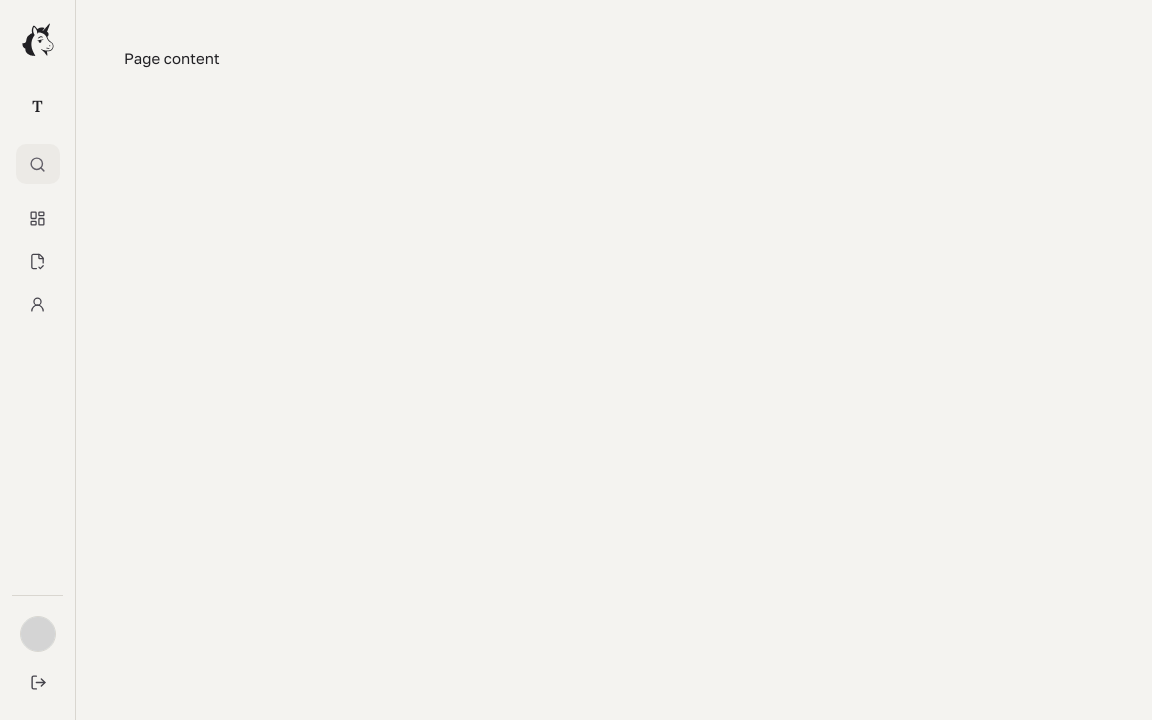
Test: CampaignWorkspaceShell › limits a viewer to returned resources and hides the write action
Click the button with class "campaign-search-trigger".
click(38, 164)  # box [16,144,60,184]
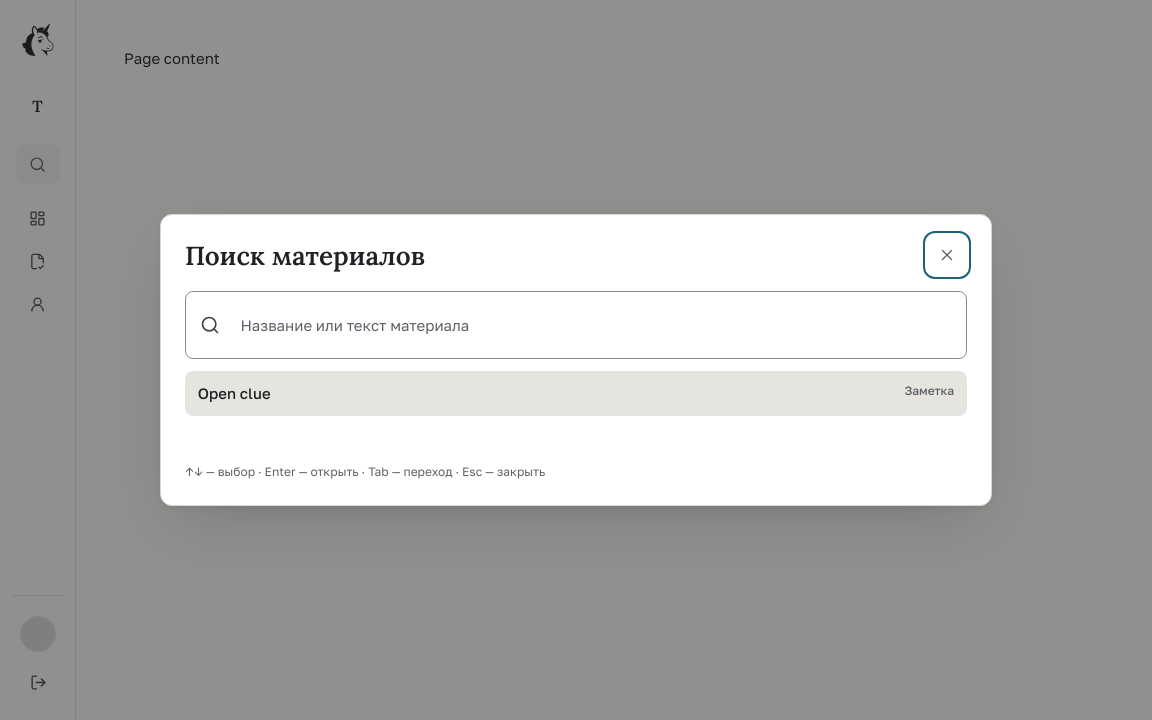
Check: the button "Open clue Заметка" is shown, box [185,371,967,416]
